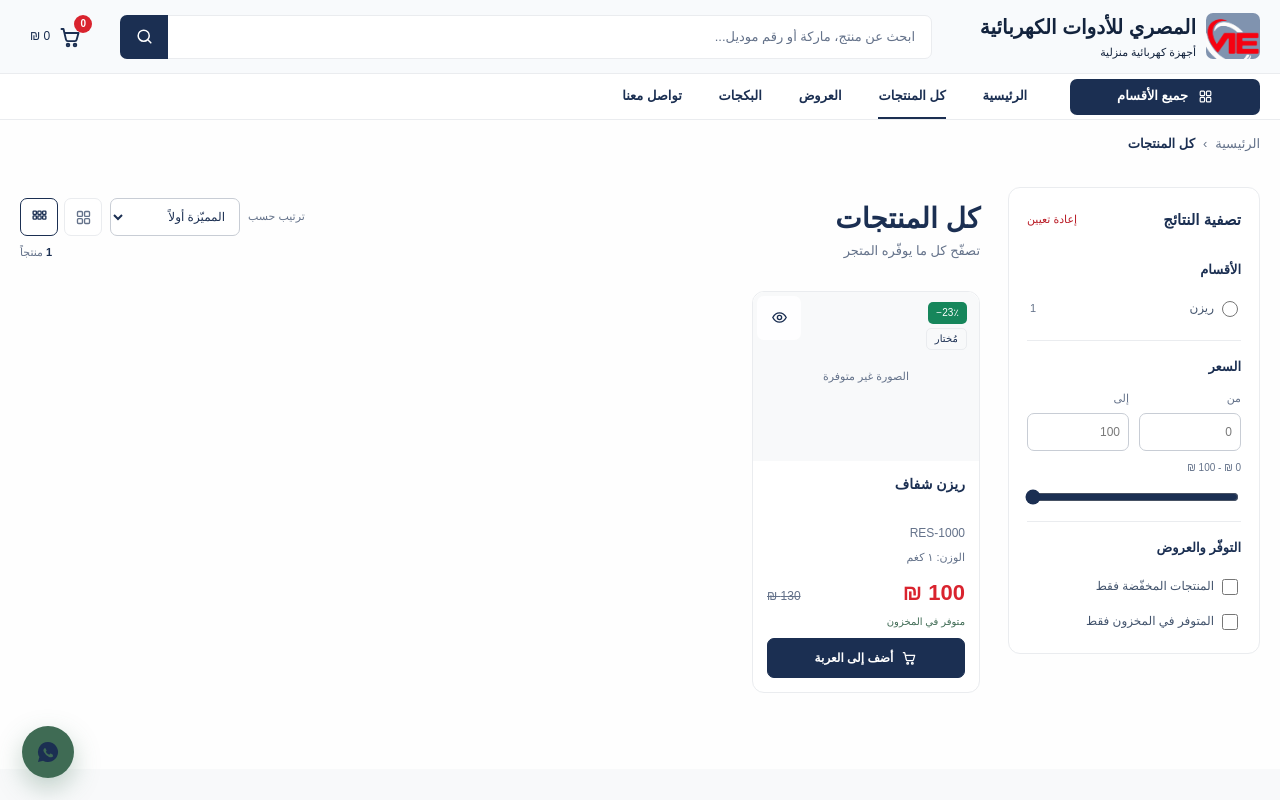
Test: product card behaviour › adds a simple product straight to the cart and reveals the drawer
Click the button "أضف إلى العربة" at (866, 658), box [767,638,965,678]
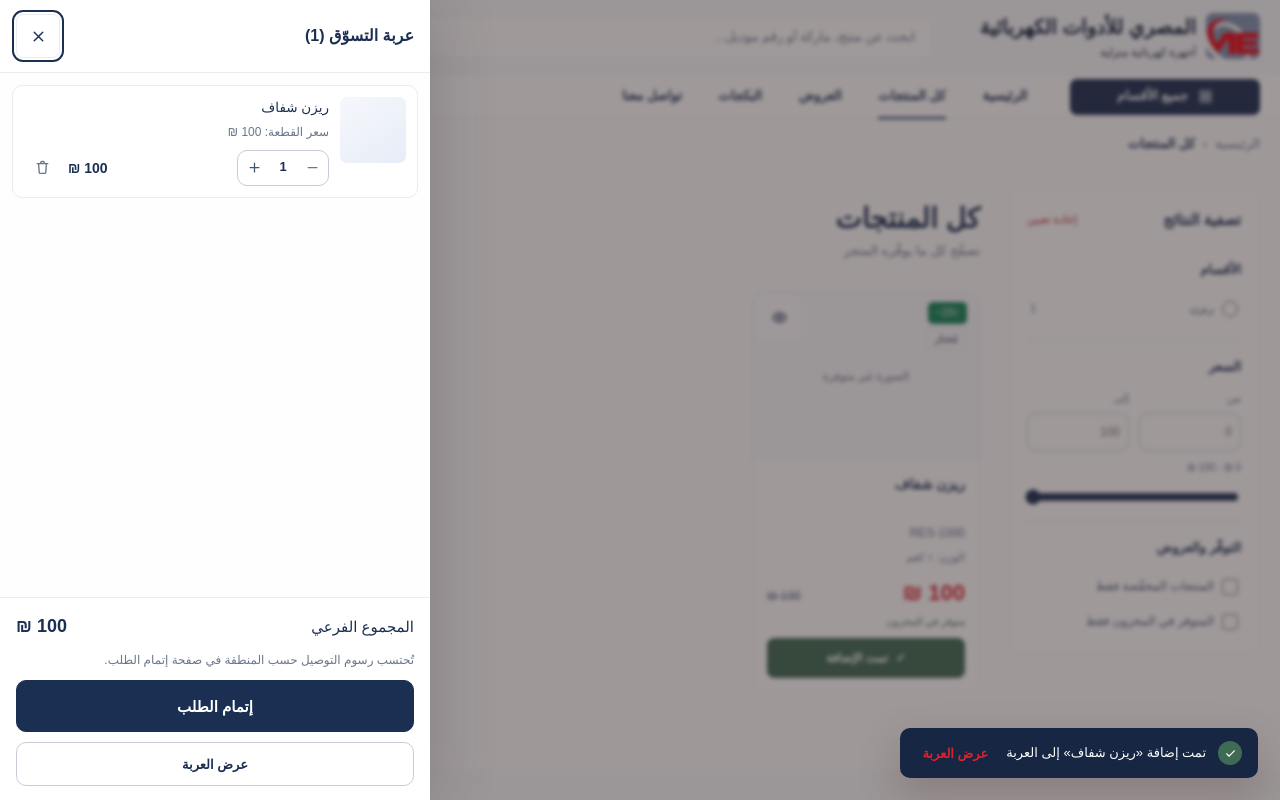
Result: the dialog "عربة التسوّق" is shown at [0,0,430,799]
